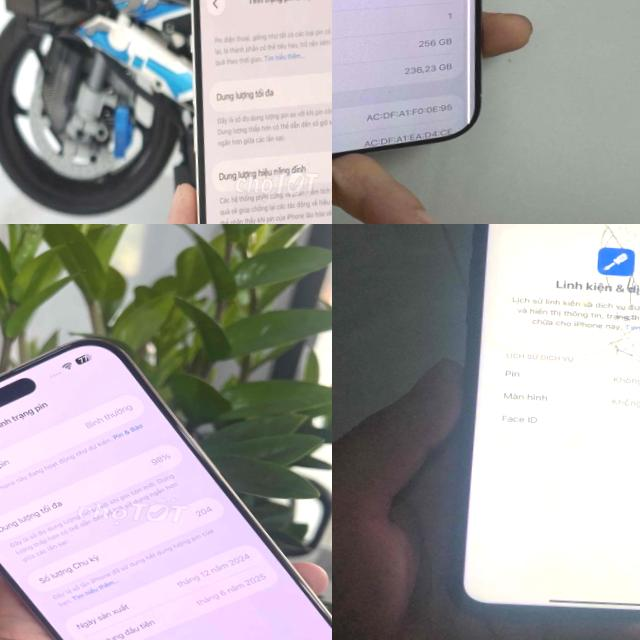gen_11: (441, 224, 640, 640)
gen_12_13: (164, 0, 332, 224)
gen_15: (332, 0, 548, 190)
gen_16: (0, 342, 332, 640)
